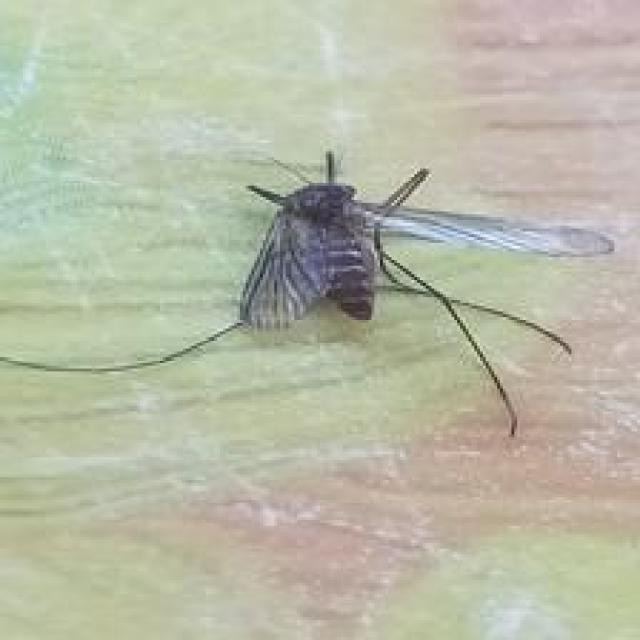Culex: (0, 147, 617, 439)
